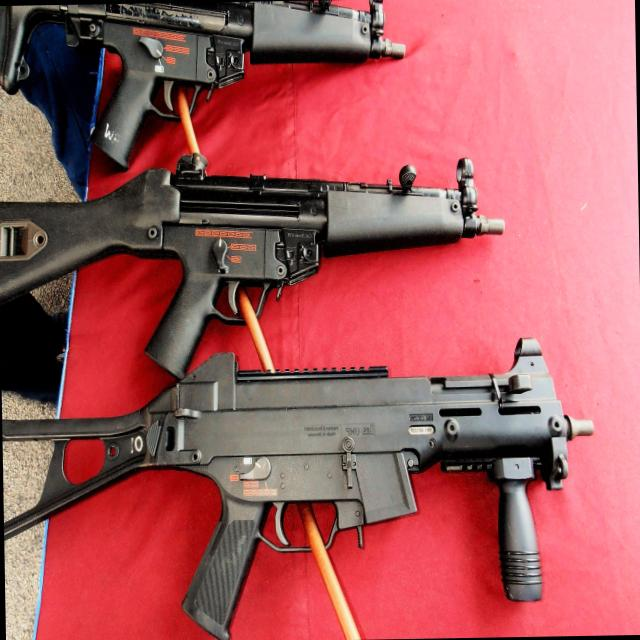Gun: (0, 295, 597, 640), (0, 161, 525, 389), (0, 0, 458, 184)
